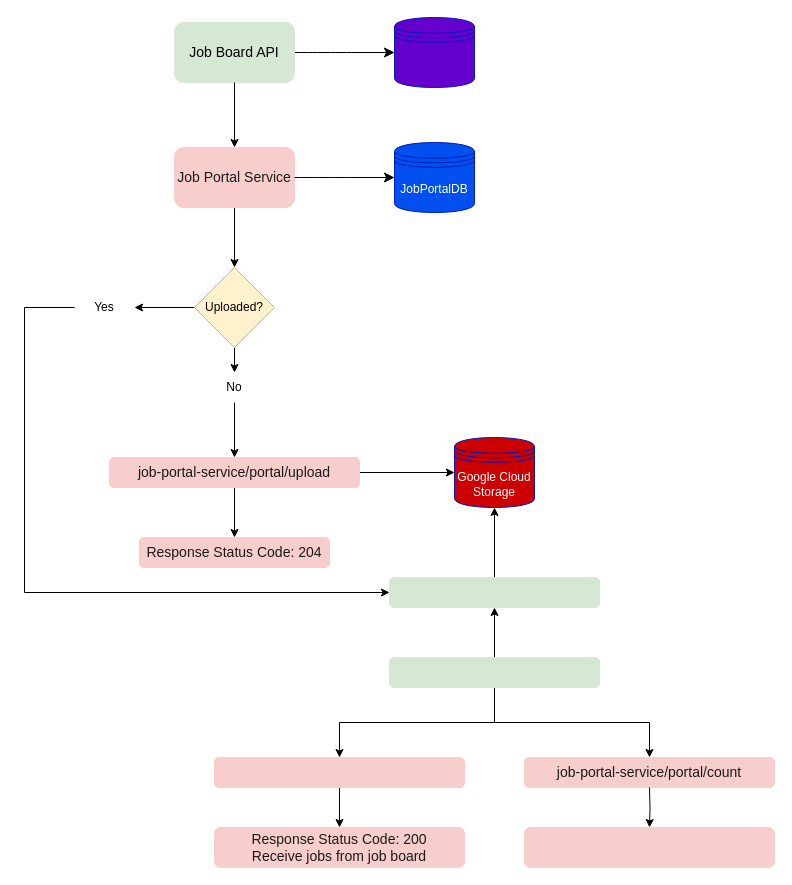
Image size: 792x885. Some labels were removed from this diagram. Each missing label, with the centre of its shape:
"/api/job_postings" goes at [494,672].
"job-portal-service/portal/jobs" goes at [339,772].
"JobBoardDB" goes at [434,52].
"Response Status Code: 200 Receive job count" goes at [649,847].
"resumeMetadata service" goes at [494,592].
